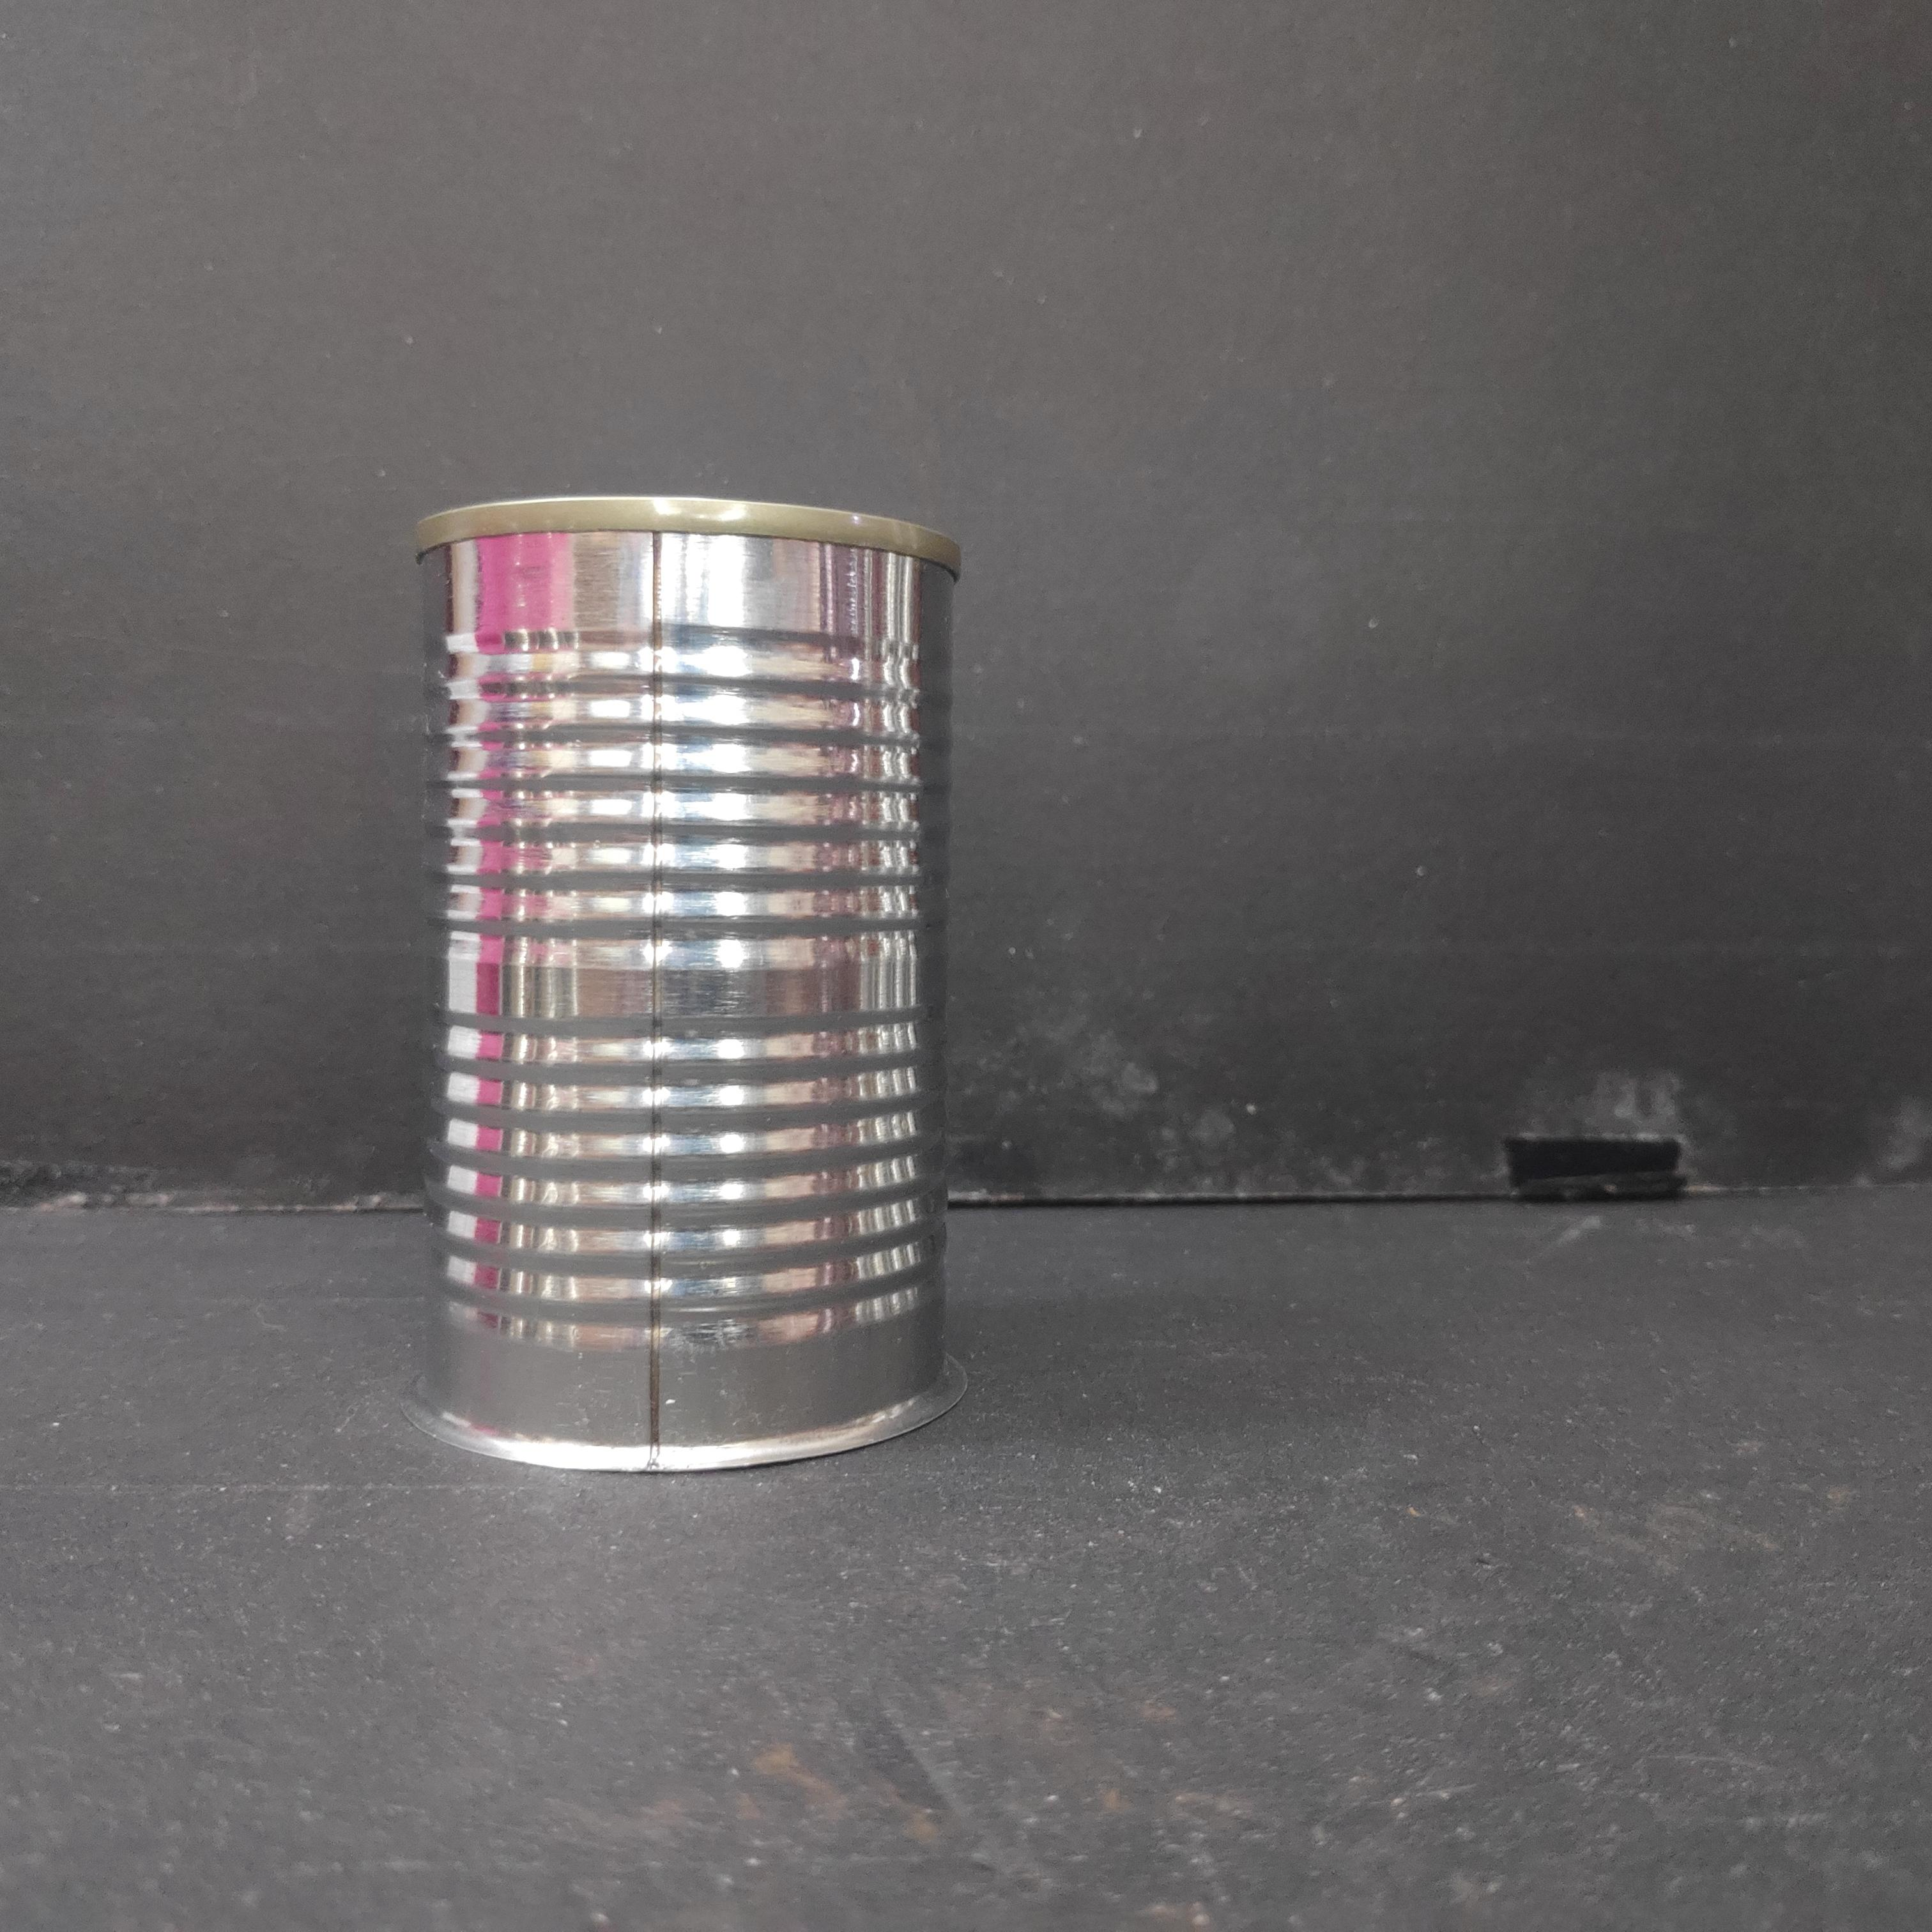No defect: (405, 494, 973, 1470)
